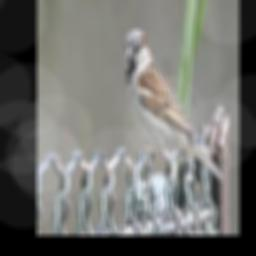Sparrow: (124, 28, 224, 186)
